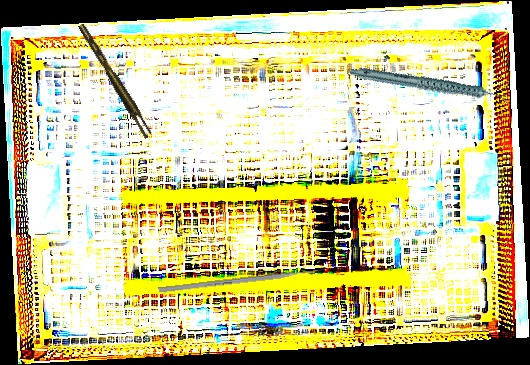Handpiece: (348, 36, 510, 136)
Pusher: (158, 266, 330, 294)
Tissue Forceps: (78, 20, 153, 141)
